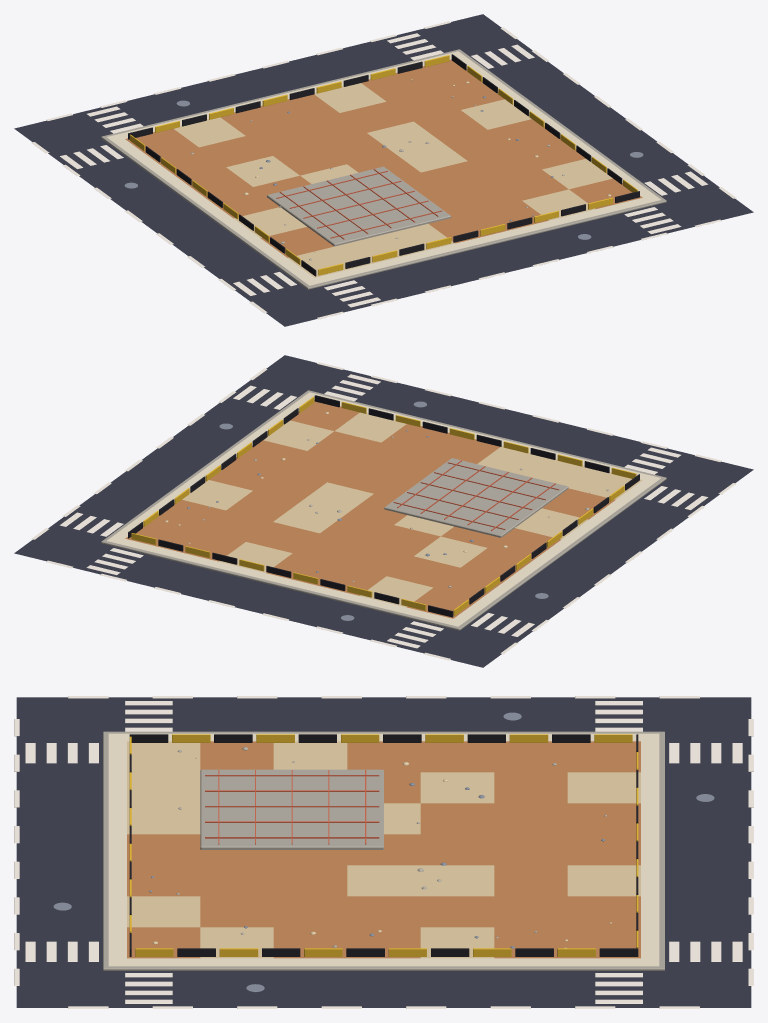
The model's file is tile_construction.glb.
3 renders of one model, top to bottom at view 1: azimuth 30°, elevation 25°; view 2: azimuth 150°, elevation 25°; view 3: azimuth 270°, elevation 25°, orthographic. The views are drawn at different scales.
Visible parts, largest first — view 1: tile_construction; view 2: tile_construction; view 3: tile_construction.
Part boxes in pixels (<box>): tile_construction: <box>14,14,753,326</box>; tile_construction: <box>14,355,753,667</box>; tile_construction: <box>14,696,753,1008</box>.
Size of the model in its own units: 40.3 by 0.6691 by 40.3.
Materials: 1 (1 with a texture image).
